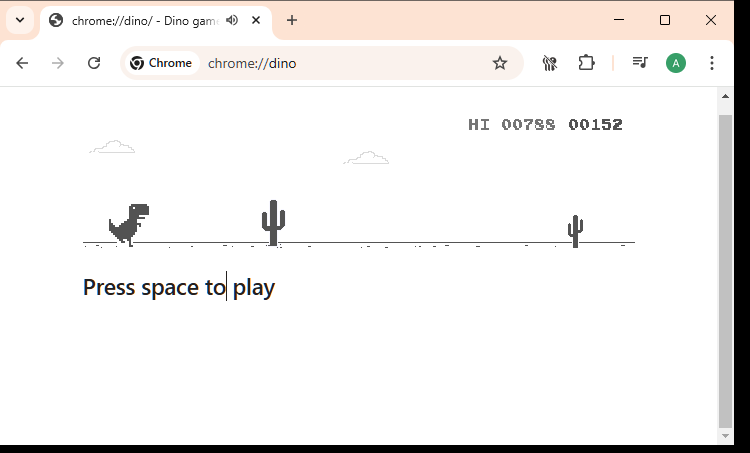cactus: (261, 199, 286, 246), (567, 214, 584, 249)
dino: (108, 203, 150, 247)
